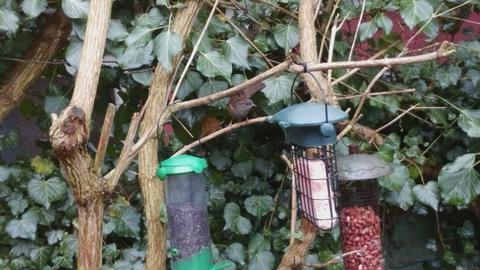dunnock: (226, 81, 266, 131)
